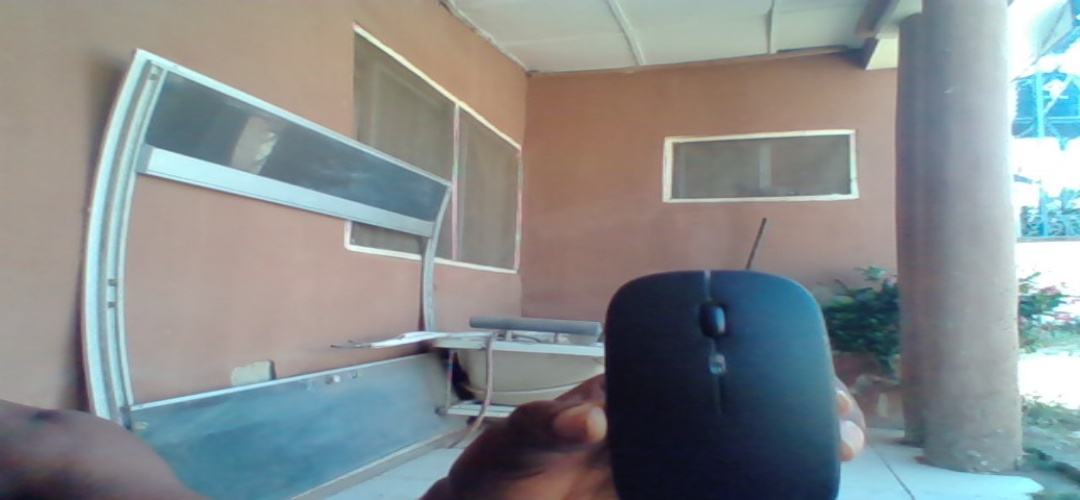wireless_mouse: (595, 271, 842, 499)
